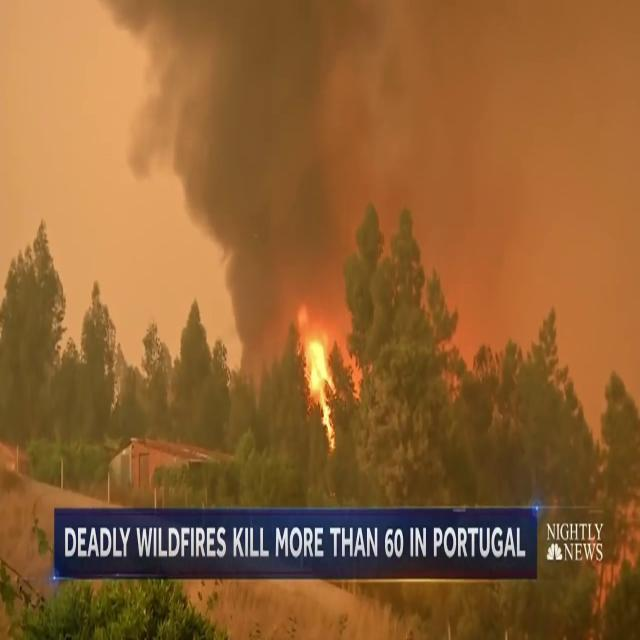Fire: (294, 306, 358, 448)
Smoke: (121, 1, 640, 360)
